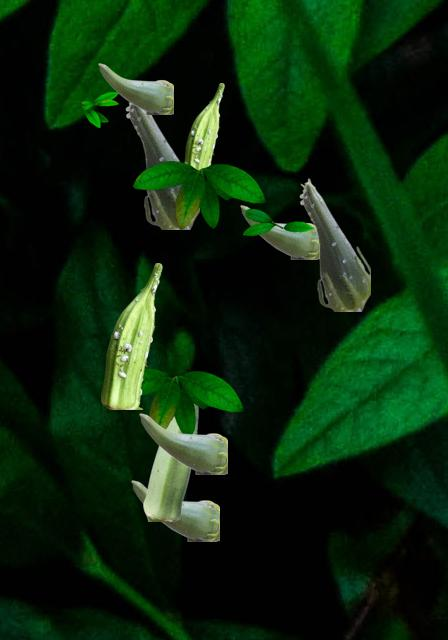okra: (299, 178, 369, 310), (125, 102, 198, 228), (101, 263, 161, 408), (143, 405, 197, 520), (131, 480, 218, 540), (139, 413, 226, 473), (240, 205, 318, 258), (98, 63, 172, 113), (184, 83, 223, 168)
